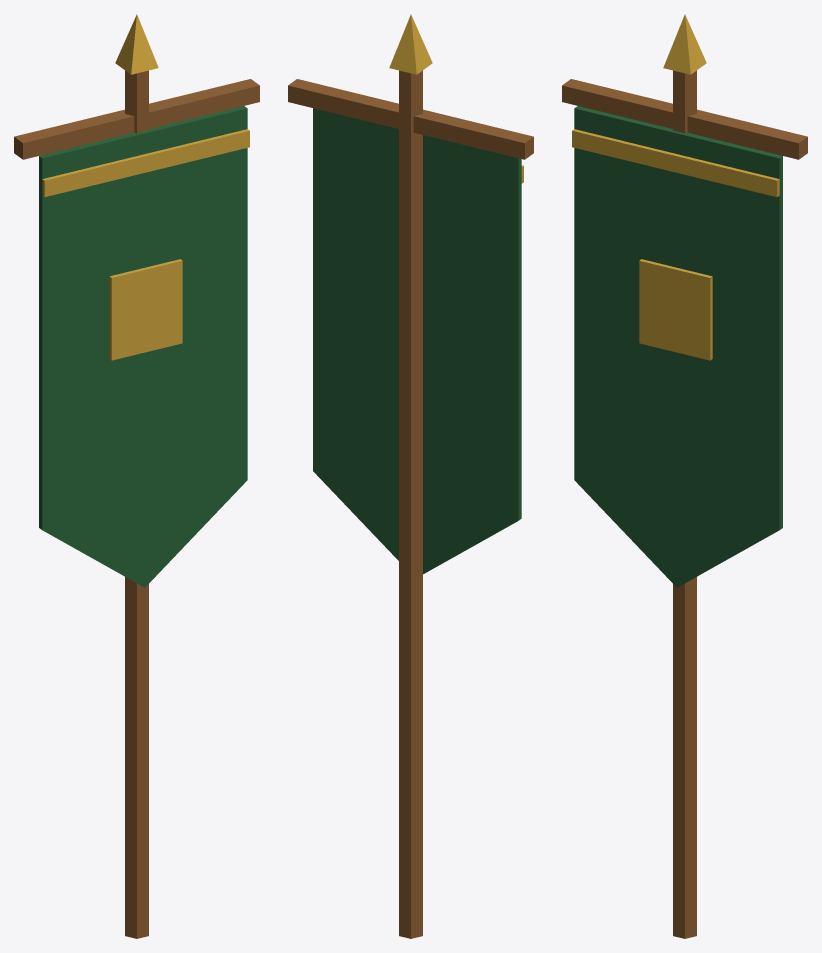
The model's file is camp_banner.glb.
The picture shows the model from 3 angles, left to right: view 1: azimuth 30°, elevation 25°; view 2: azimuth 150°, elevation 25°; view 3: azimuth 330°, elevation 25°; orthographic projection.
Visible parts, largest first — view 1: camp_banner; view 2: camp_banner; view 3: camp_banner.
Part boxes in pixels (<box>): camp_banner: <box>14,14,259,938</box>; camp_banner: <box>288,14,533,938</box>; camp_banner: <box>562,14,807,938</box>.
Size of the model in its own units: 1.2 by 4.45 by 0.16.
1 material, 1 textured.
